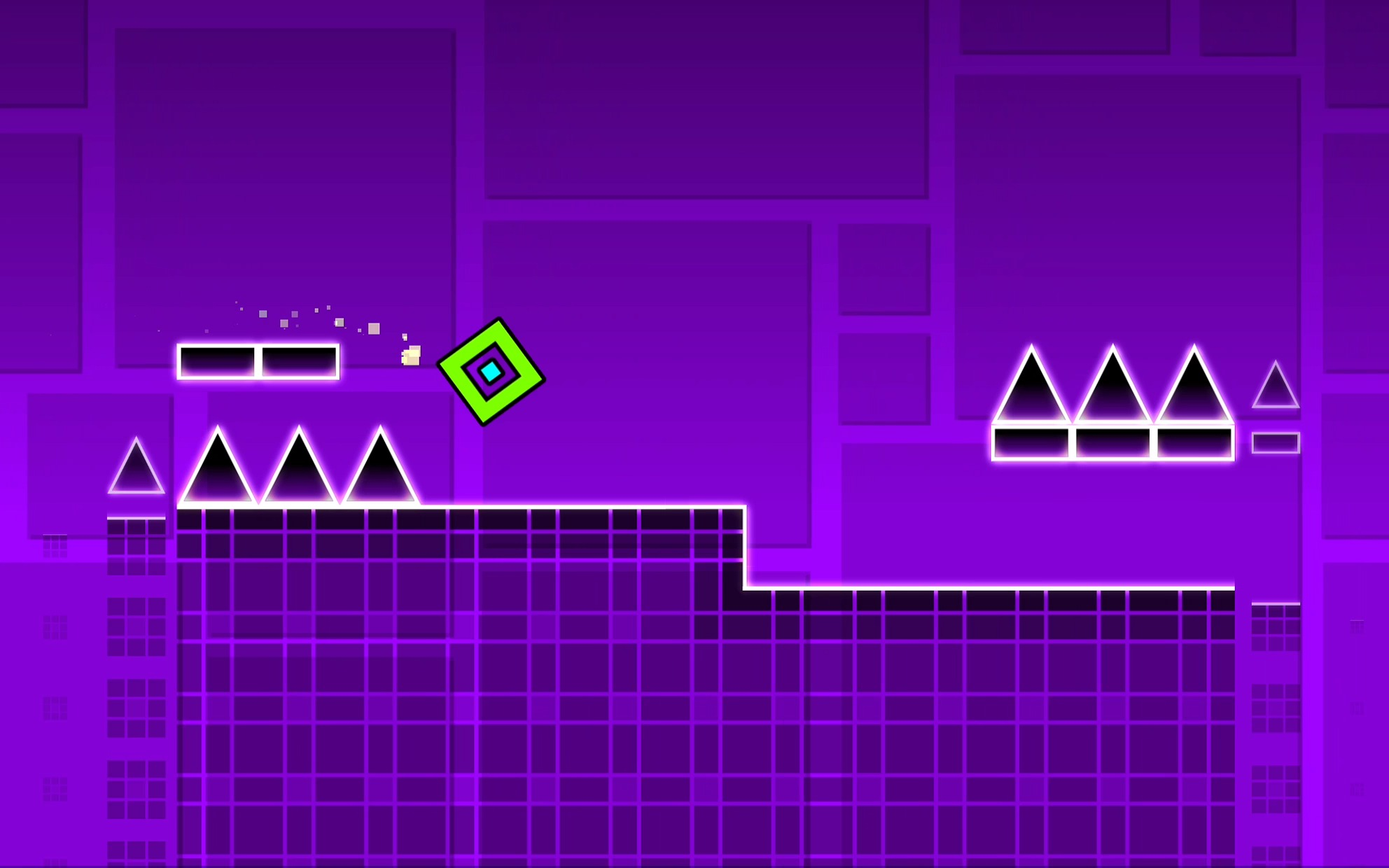Block2: (92, 507, 734, 868), (741, 590, 1314, 868)
Block3: (170, 343, 339, 380), (1095, 424, 1237, 460), (989, 420, 1091, 459)
Player: (437, 319, 544, 425)
Spike: (994, 345, 1071, 422), (185, 430, 259, 507), (346, 427, 419, 505), (1159, 346, 1232, 421), (1076, 346, 1148, 421), (263, 428, 334, 504), (111, 439, 168, 495), (1253, 361, 1300, 407)
